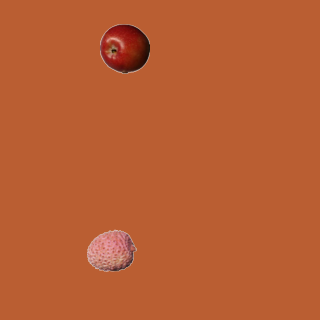Apple Braeburn: (99, 23, 149, 73)
Lychee: (86, 225, 136, 275)
